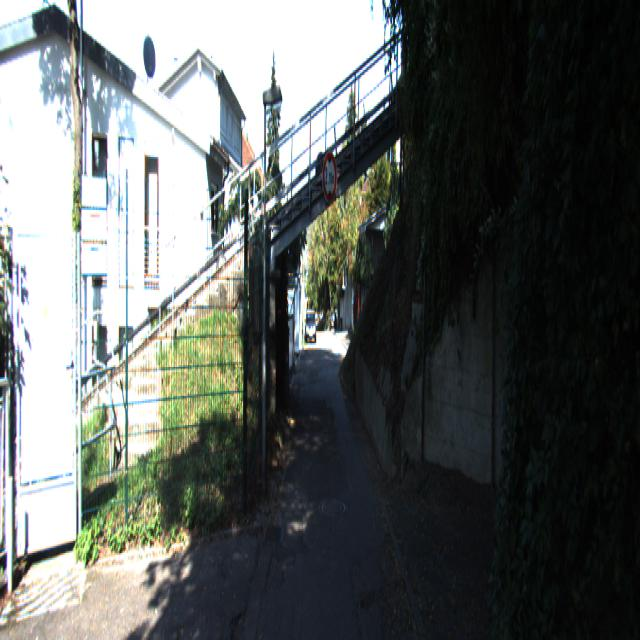Car: (305, 309, 316, 343)
